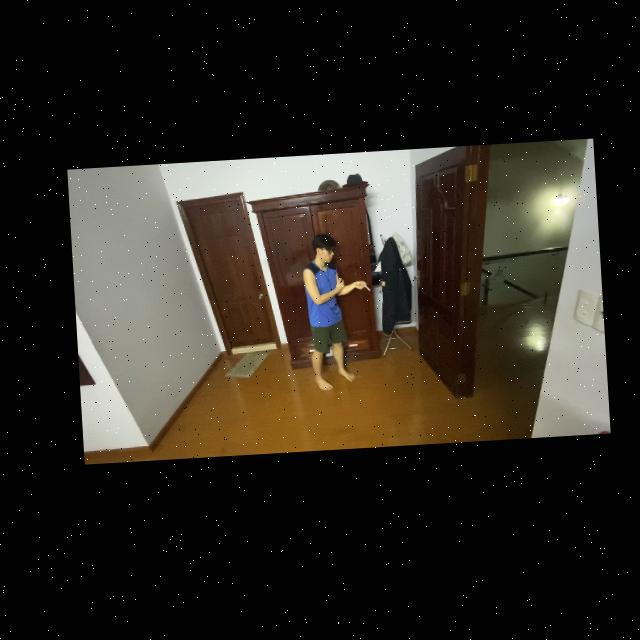cigarette: (361, 288, 366, 295)
